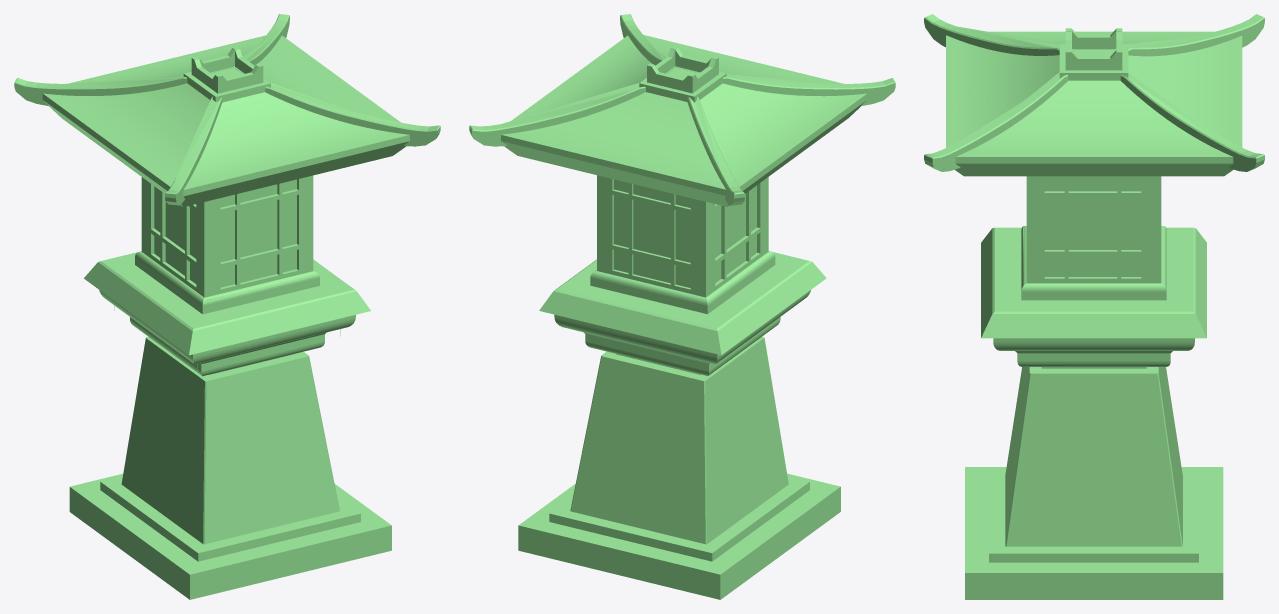
Rendered from lantern04.fbx.
The picture shows the model from 3 angles, left to right: view 1: azimuth 30°, elevation 25°; view 2: azimuth 150°, elevation 25°; view 3: azimuth 270°, elevation 25°; orthographic projection. The views are drawn at different scales.
Visible parts, largest first — view 1: Mesh20, Line08, __03, Line03, __05; view 2: Mesh20, Line08, __06, Line03, __05; view 3: Mesh20, Line08, __04, Line03.
Part boxes in pixels (bbox=[...]): Mesh20: bbox=[42, 35, 409, 599]; Line08: bbox=[14, 14, 440, 205]; __03: bbox=[220, 179, 296, 287]; Line03: bbox=[183, 46, 270, 102]; __05: bbox=[154, 186, 196, 283]; Mesh20: bbox=[501, 35, 867, 599]; Line08: bbox=[469, 14, 895, 205]; __06: bbox=[614, 179, 690, 287]; Line03: bbox=[639, 46, 726, 102]; __05: bbox=[715, 185, 756, 282]; Mesh20: bbox=[946, 31, 1242, 599]; Line08: bbox=[924, 14, 1264, 171]; __04: bbox=[1044, 176, 1141, 276]; Line03: bbox=[1059, 28, 1128, 80].
Bounding box in the file's own units: 6130 × 10000 × 6117.
